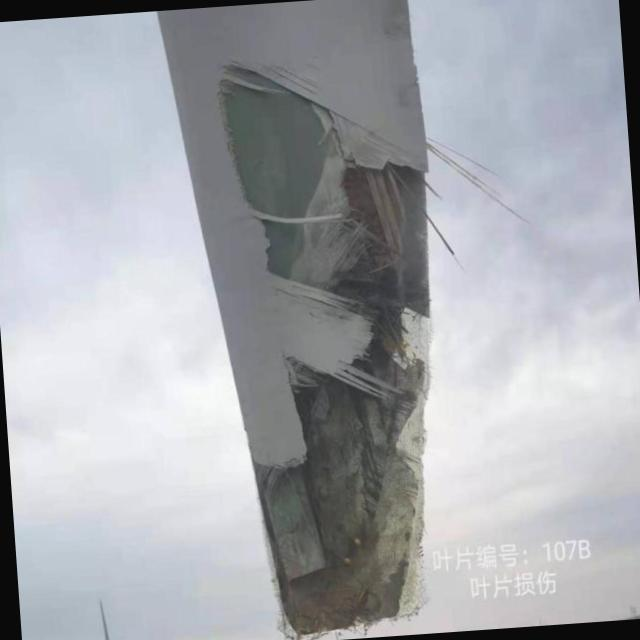crack: (210, 43, 455, 634)
